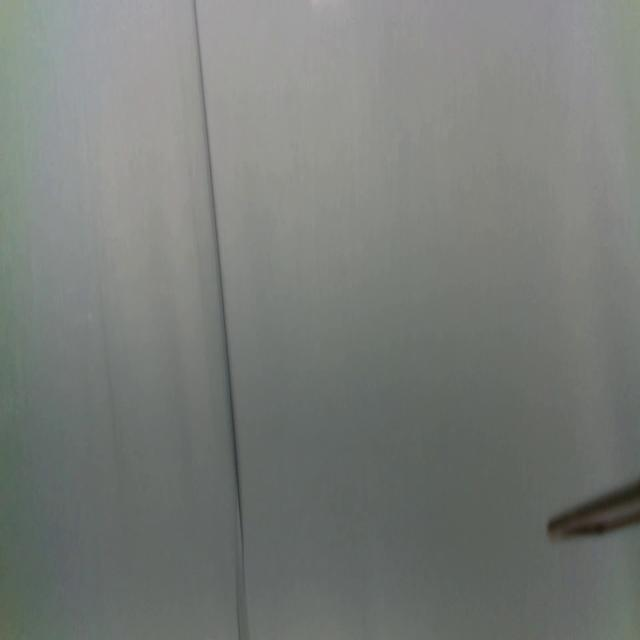crease: (192, 0, 250, 640)
